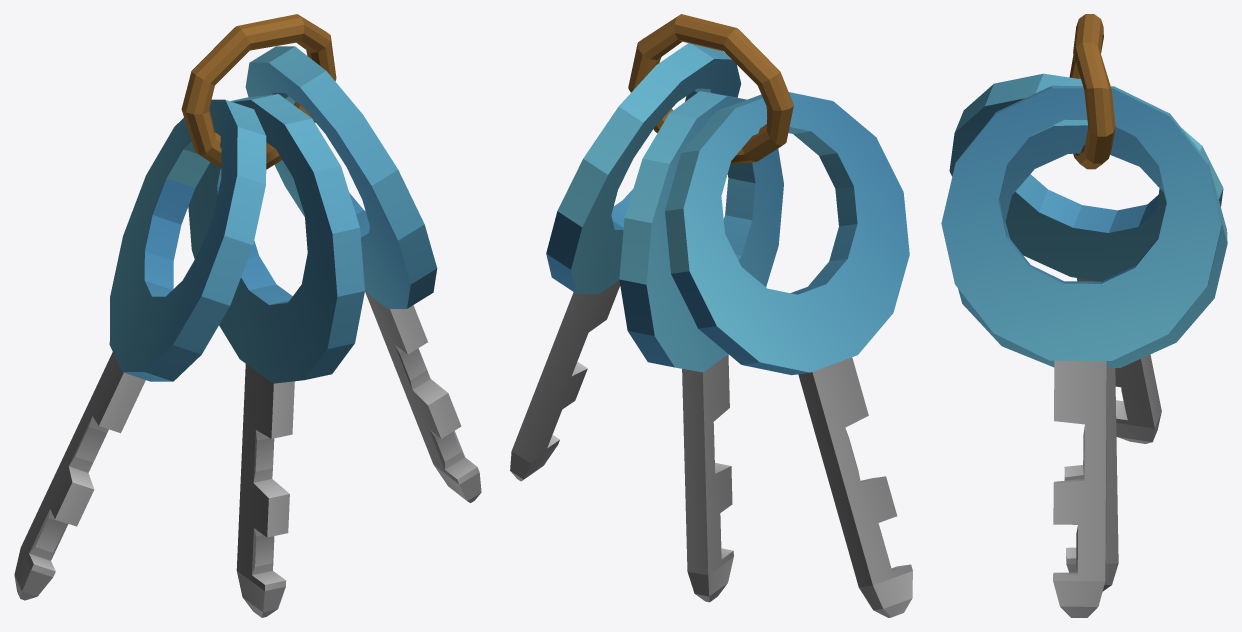
Rendered from keychain.fbx.
The picture shows the model from 3 angles, left to right: view 1: azimuth 30°, elevation 25°; view 2: azimuth 150°, elevation 25°; view 3: azimuth 270°, elevation 25°; orthographic projection. The views are drawn at different scales.
Visible parts, largest first — view 1: Cylinder; view 2: Cylinder; view 3: Cylinder.
Part boxes in pixels (box(x1,y1,x2,y2)): Cylinder: box(14, 14, 481, 617); Cylinder: box(510, 14, 912, 617); Cylinder: box(941, 14, 1227, 617).
Size of the model in its own units: 101 by 134 by 61.03.
Materials: 1 (1 with a texture image).
